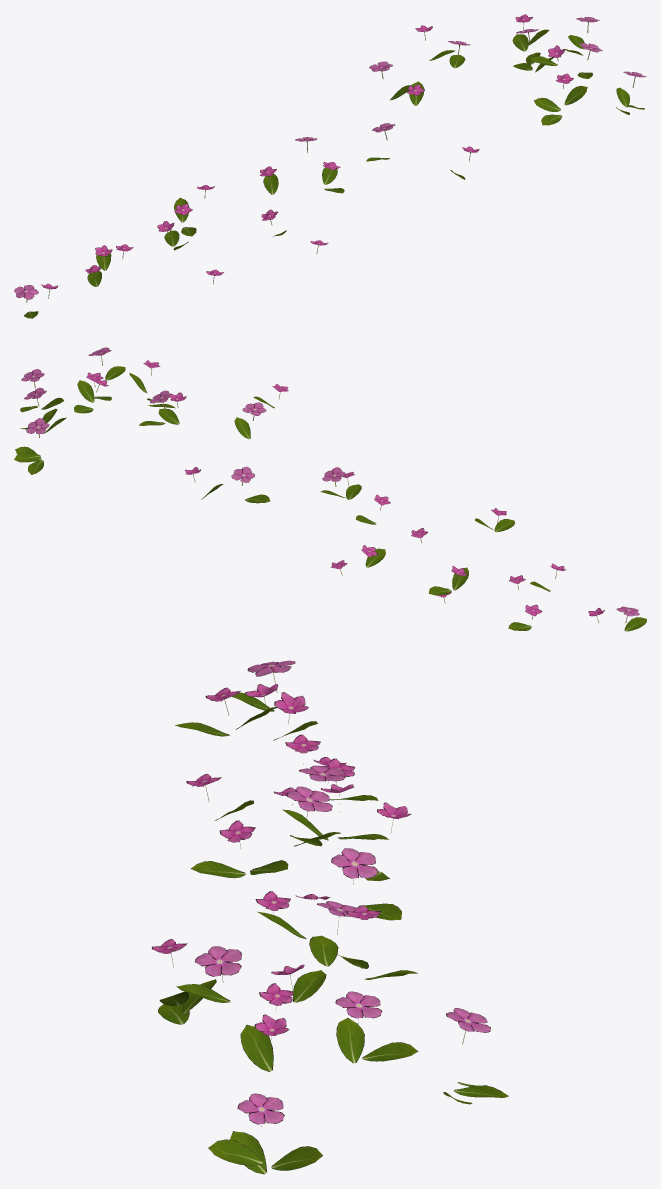
Rendered from periwinkle_plant-high.glb.
3 renders of one model, top to bottom at view 1: azimuth 30°, elevation 25°; view 2: azimuth 150°, elevation 25°; view 3: azimuth 270°, elevation 25°, orthographic. The views are drawn at different scales.
Parts seen in each view (by area): view 1: periwinkle_plant_01_LOD0, periwinkle_plant_02_LOD0, periwinkle_plant_03_LOD0, periwinkle_plant_04_LOD0, periwinkle_plant_05_LOD0; view 2: periwinkle_plant_01_LOD0, periwinkle_plant_02_LOD0, periwinkle_plant_03_LOD0, periwinkle_plant_04_LOD0, periwinkle_plant_05_LOD0, periwinkle_plant_06_LOD0; view 3: periwinkle_plant_01_LOD0, periwinkle_plant_02_LOD0, periwinkle_plant_03_LOD0, periwinkle_plant_04_LOD0, periwinkle_plant_06_LOD0, periwinkle_plant_05_LOD0.
Boxes of the visible parts, bbox=[...] form: periwinkle_plant_01_LOD0: bbox=[512, 14, 646, 125]; periwinkle_plant_02_LOD0: bbox=[366, 25, 479, 179]; periwinkle_plant_03_LOD0: bbox=[259, 137, 344, 254]; periwinkle_plant_04_LOD0: bbox=[157, 185, 223, 284]; periwinkle_plant_05_LOD0: bbox=[85, 244, 133, 286]; periwinkle_plant_01_LOD0: bbox=[14, 347, 175, 474]; periwinkle_plant_02_LOD0: bbox=[139, 384, 288, 503]; periwinkle_plant_03_LOD0: bbox=[320, 467, 390, 575]; periwinkle_plant_04_LOD0: bbox=[411, 508, 514, 603]; periwinkle_plant_05_LOD0: bbox=[508, 563, 566, 630]; periwinkle_plant_06_LOD0: bbox=[588, 606, 646, 631]; periwinkle_plant_01_LOD0: bbox=[151, 905, 508, 1174]; periwinkle_plant_02_LOD0: bbox=[186, 765, 411, 1071]; periwinkle_plant_03_LOD0: bbox=[191, 786, 340, 1010]; periwinkle_plant_04_LOD0: bbox=[175, 687, 388, 912]; periwinkle_plant_06_LOD0: bbox=[231, 660, 308, 723]; periwinkle_plant_05_LOD0: bbox=[245, 684, 378, 800].
Bounding box in the file's own units: 1.22 × 0.3256 × 0.3069.
Materials: 1 (1 with a texture image).
